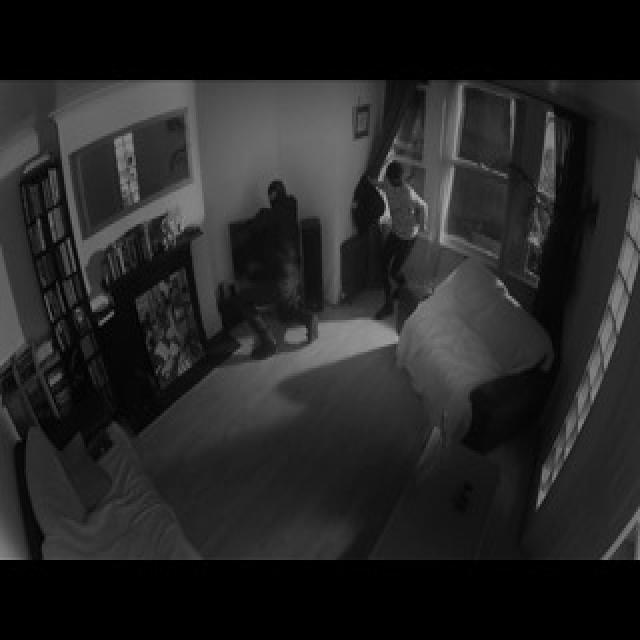burglary: (371, 141, 432, 318)
thief: (243, 164, 315, 353)
